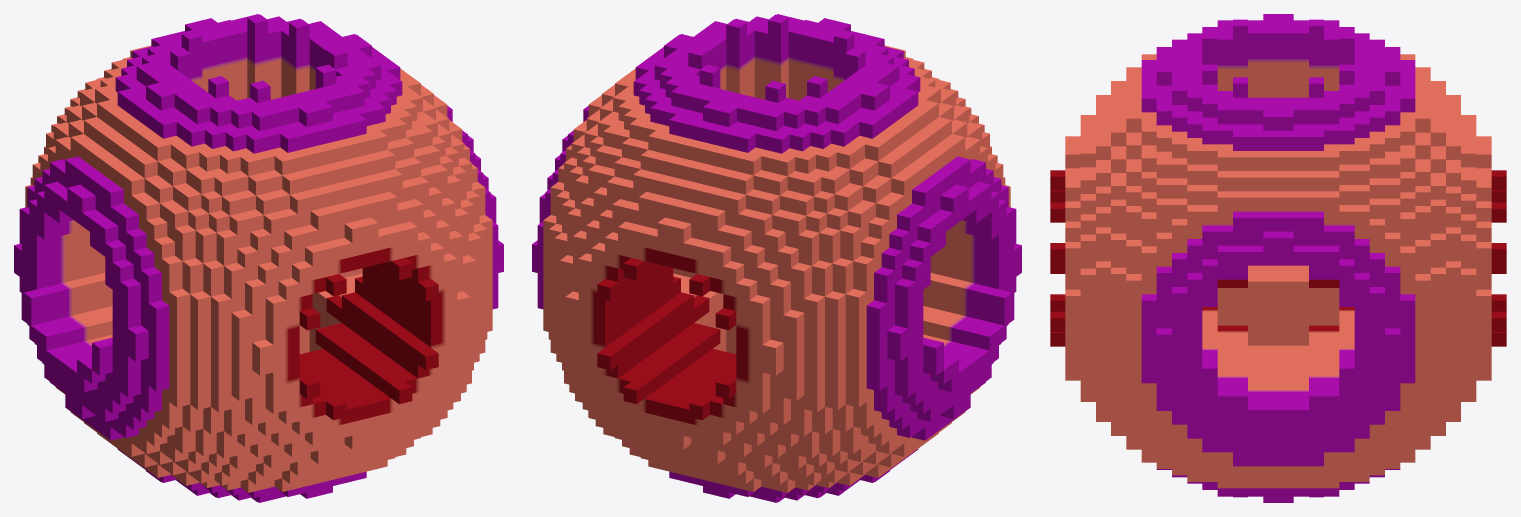
Rendered from Character_7.fbx.
The picture shows the model from 3 angles, left to right: view 1: azimuth 30°, elevation 25°; view 2: azimuth 150°, elevation 25°; view 3: azimuth 270°, elevation 25°; orthographic projection.
Parts seen in each view (by area): view 1: Character_7; view 2: Character_7; view 3: Character_7.
Boxes of the visible parts, x1=… form: Character_7: x1=14, y1=14, x2=503, y2=502; Character_7: x1=532, y1=14, x2=1021, y2=502; Character_7: x1=1050, y1=14, x2=1506, y2=502.
Size of the model in its own units: 30 by 30 by 30.
1 material, 1 textured.
